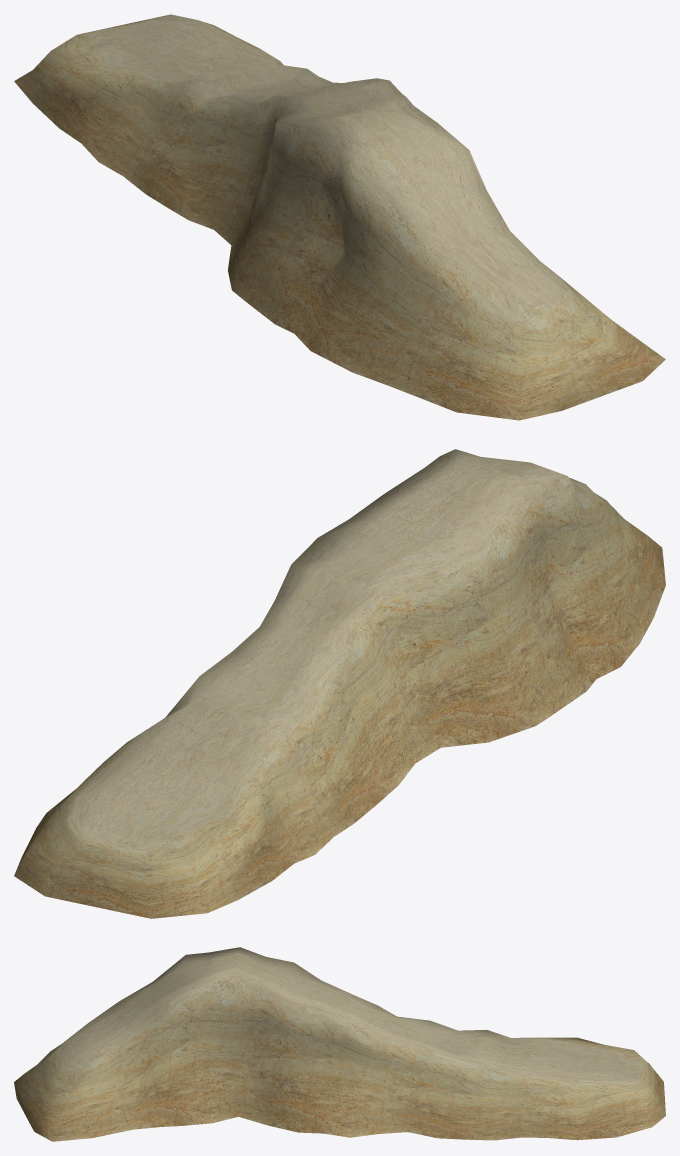
The model's file is rock_beach_spine_a4_l0.fbx.
3 renders of one model, top to bottom at view 1: azimuth 30°, elevation 25°; view 2: azimuth 150°, elevation 25°; view 3: azimuth 270°, elevation 25°, orthographic. The views are drawn at different scales.
Parts seen in each view (by area): view 1: mesh_node; view 2: mesh_node; view 3: mesh_node.
Boxes of the visible parts, x1,y1,x2,y2 form: mesh_node: (14,14,665,420); mesh_node: (14,449,665,918); mesh_node: (14,947,665,1141).
Bounding box in the file's own units: 5.29 × 3.69 × 16.75.
